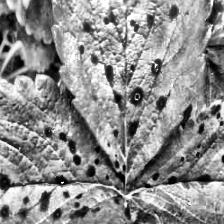Leaf Spot: (49, 0, 214, 191), (0, 73, 145, 224), (125, 98, 224, 224), (189, 43, 224, 117)
